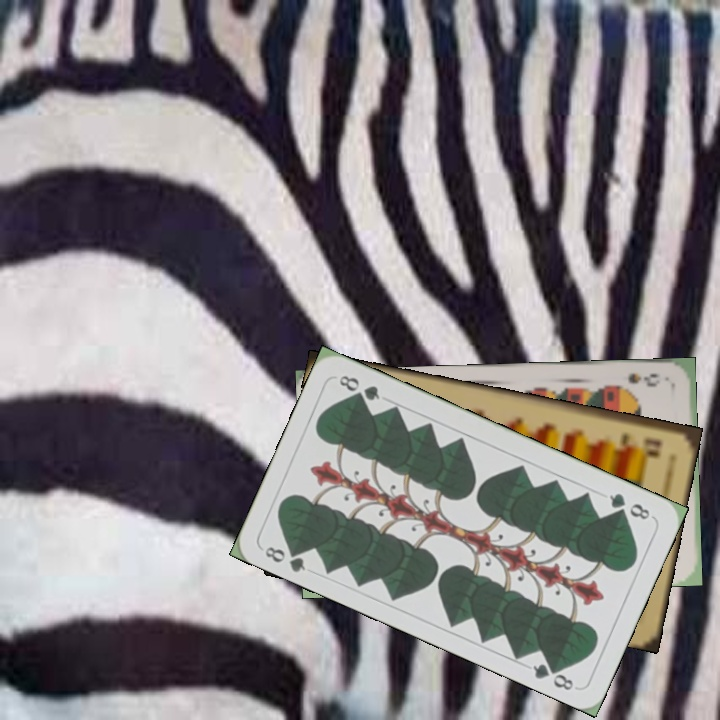E10: (617, 429, 664, 455)
G8: (605, 489, 655, 523), (261, 541, 308, 575)
S9: (611, 369, 663, 394)
